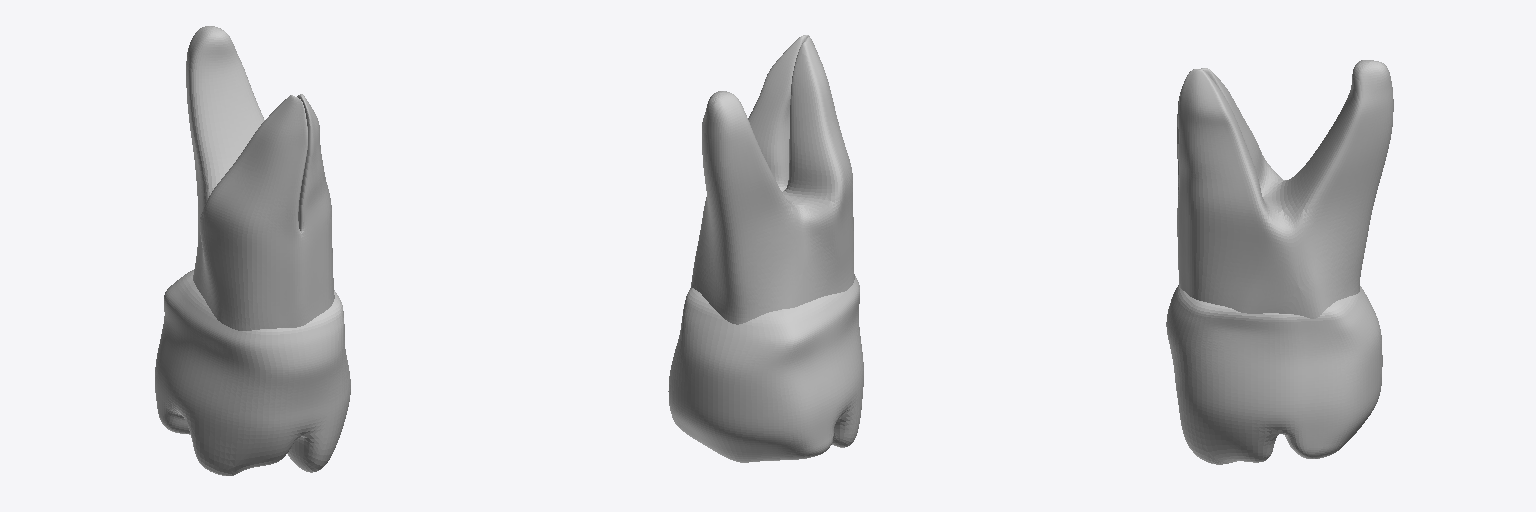
File: Modelo.obj
3 renders of one model, left to right at view 1: azimuth 30°, elevation 25°; view 2: azimuth 150°, elevation 25°; view 3: azimuth 270°, elevation 25°, orthographic.
Visible parts, largest first — view 1: Cylinder, Cylinder.001; view 2: Cylinder, Cylinder.001; view 3: Cylinder, Cylinder.001.
Part boxes in pixels (bbox=[...]): Cylinder: bbox=[186, 26, 334, 330]; Cylinder.001: bbox=[155, 270, 350, 475]; Cylinder: bbox=[691, 35, 854, 324]; Cylinder.001: bbox=[668, 276, 863, 462]; Cylinder: bbox=[1177, 60, 1393, 318]; Cylinder.001: bbox=[1166, 285, 1382, 464].
Bounding box in the file's own units: 2.22 × 5.26 × 2.77.